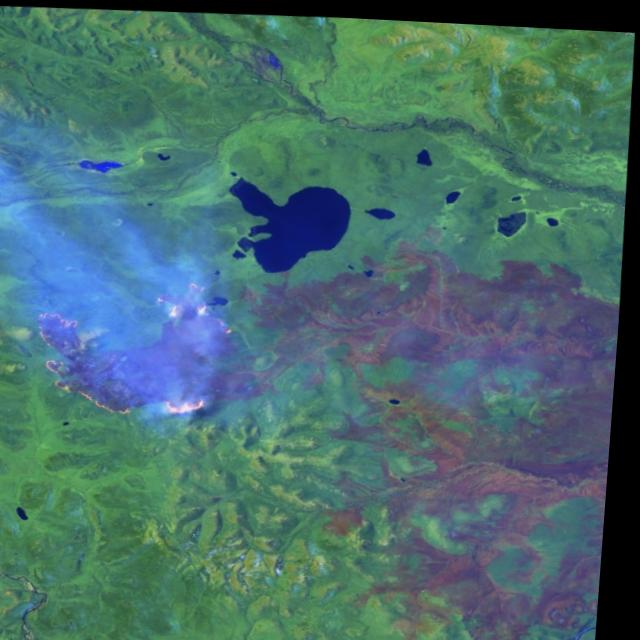fire: (32, 270, 246, 424)
